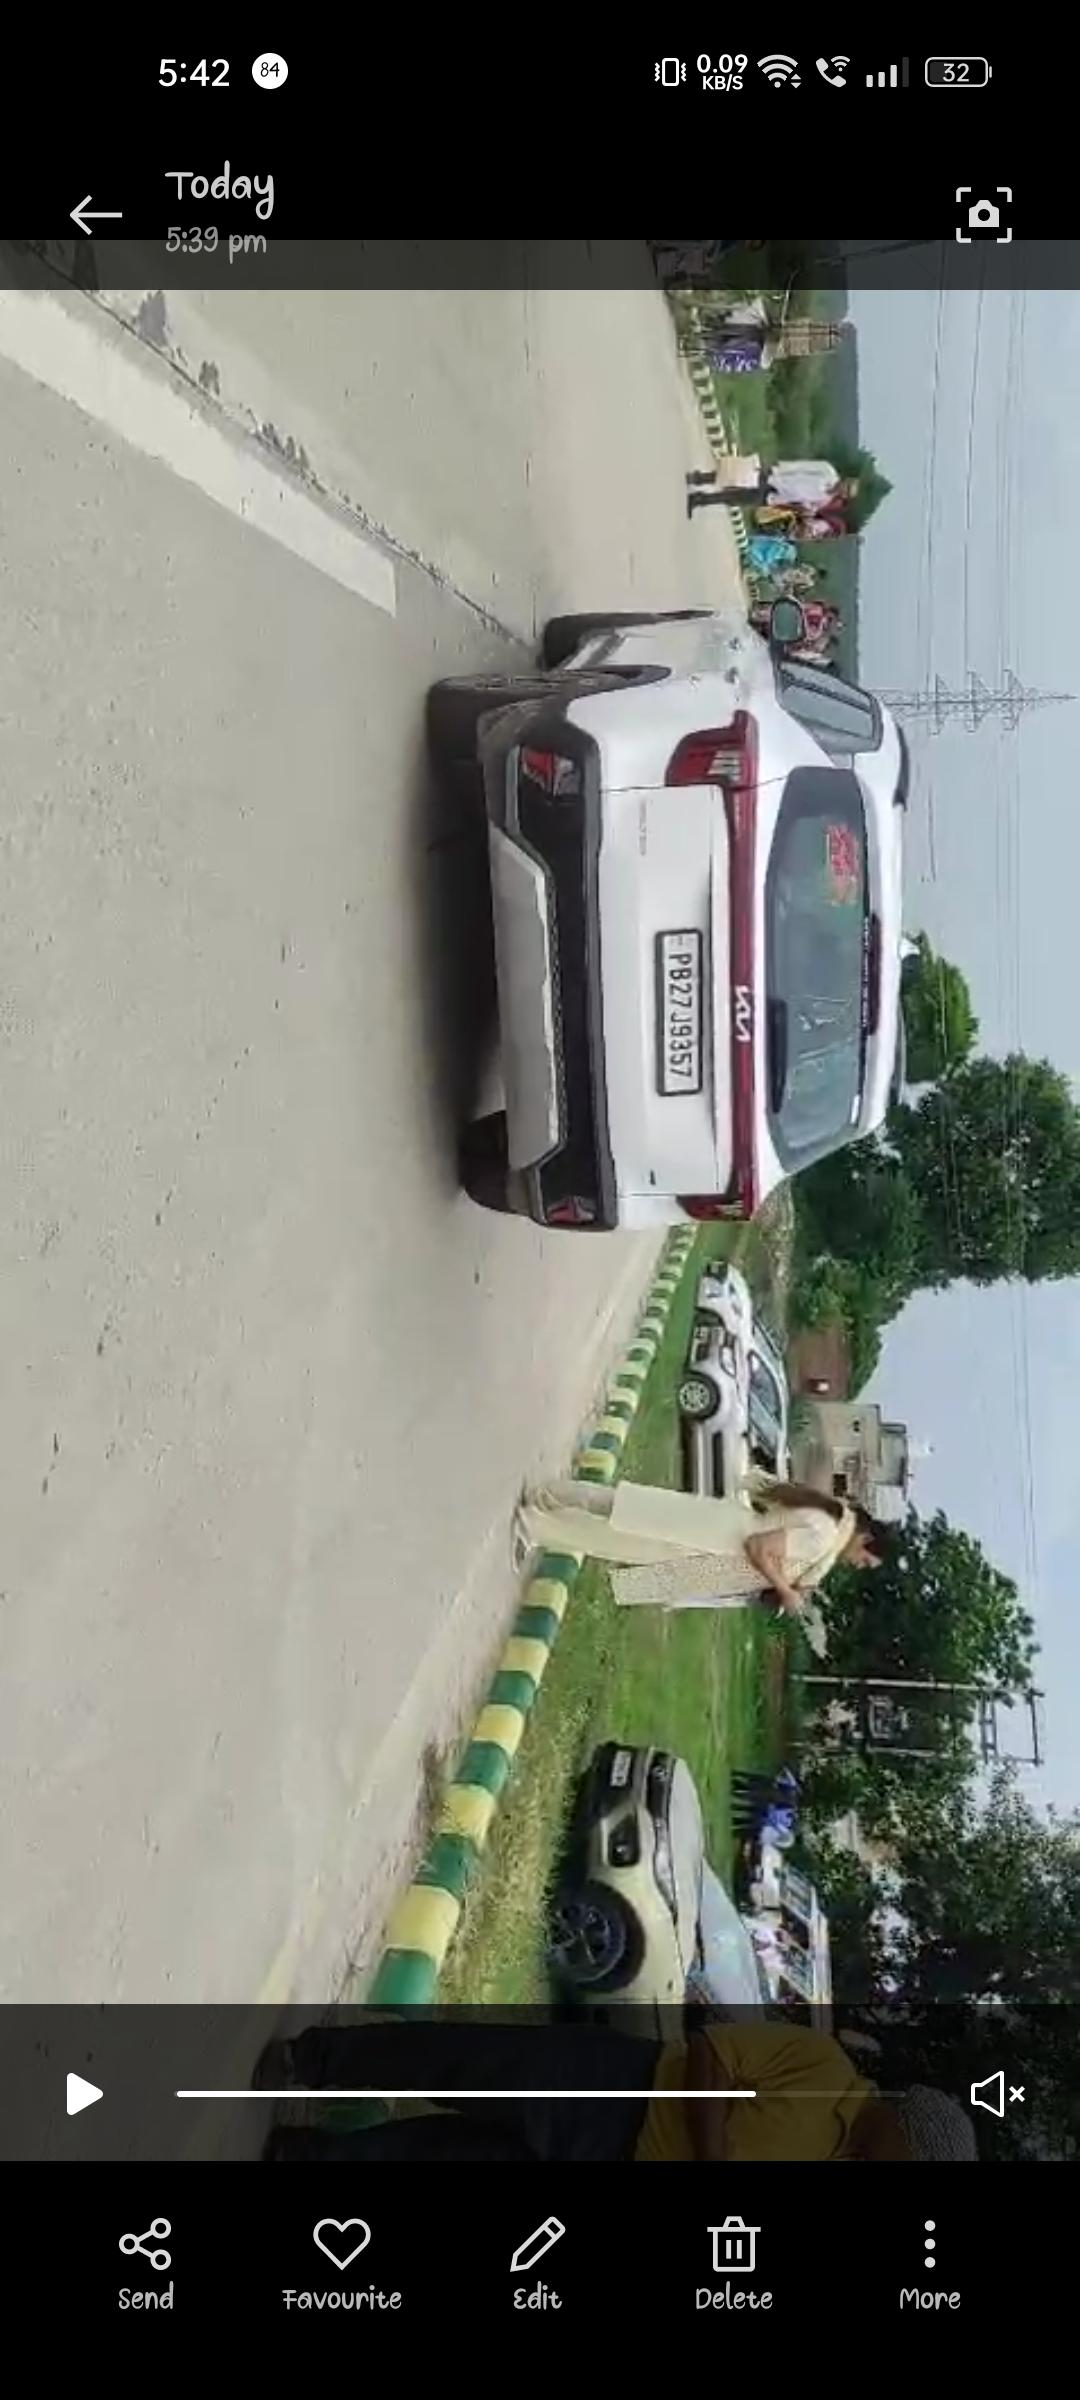license_plate: (658, 932, 702, 1095)
